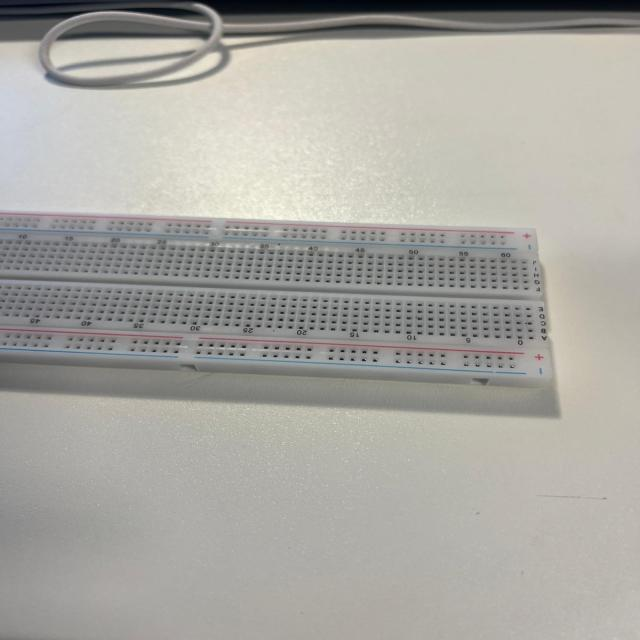BreadBoard: (9, 204, 563, 399)
